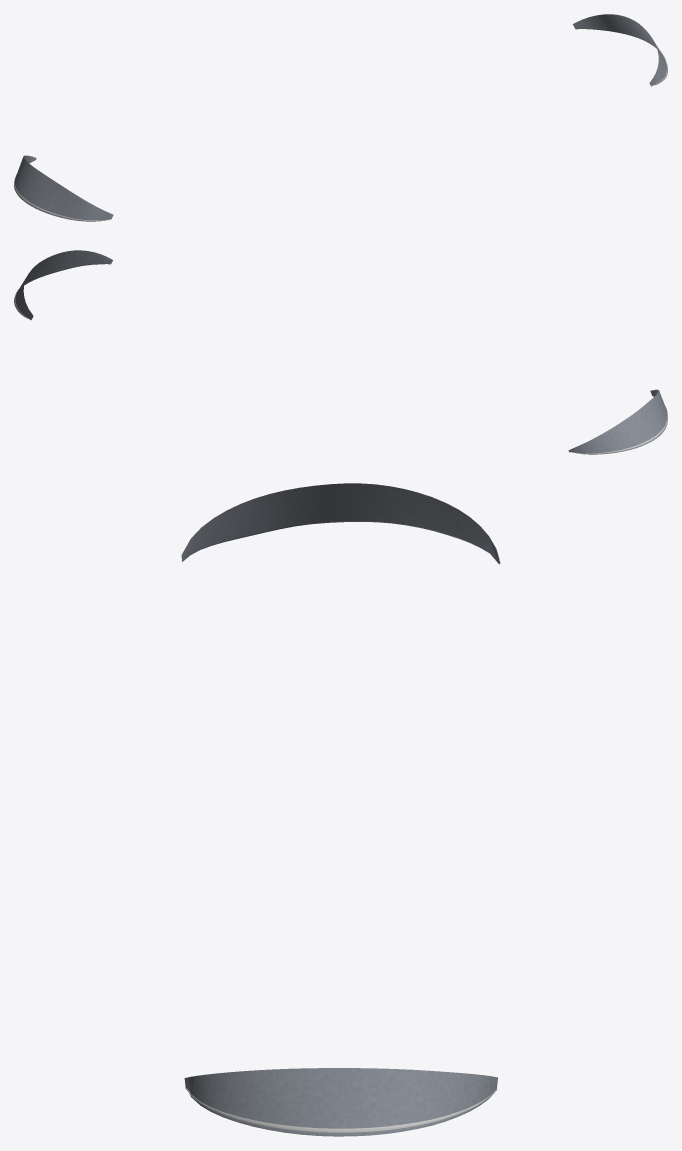
Rendered from Jac_Flic_HANDS_V2.glb.
3 views of the same model, one above another, from view 1: azimuth 30°, elevation 25°; view 2: azimuth 150°, elevation 25°; view 3: azimuth 270°, elevation 25° (orthographic). The views are drawn at different scales.
Visible parts, largest first — view 1: Jac_Flic_HANDS.001; view 2: Jac_Flic_HANDS.001; view 3: Jac_Flic_HANDS.001, Jac_Rope_Flic_HANDS.001.
Part boxes in pixels (x1,y1,x2,y2): Jac_Flic_HANDS.001: (14,14,667,221); Jac_Flic_HANDS.001: (14,250,667,454); Jac_Flic_HANDS.001: (181,483,499,1136); Jac_Rope_Flic_HANDS.001: (185,562,500,1132).
Bounding box in the file's own units: 1.28 × 0.0545 × 0.2803.
2 materials, 2 textured.
